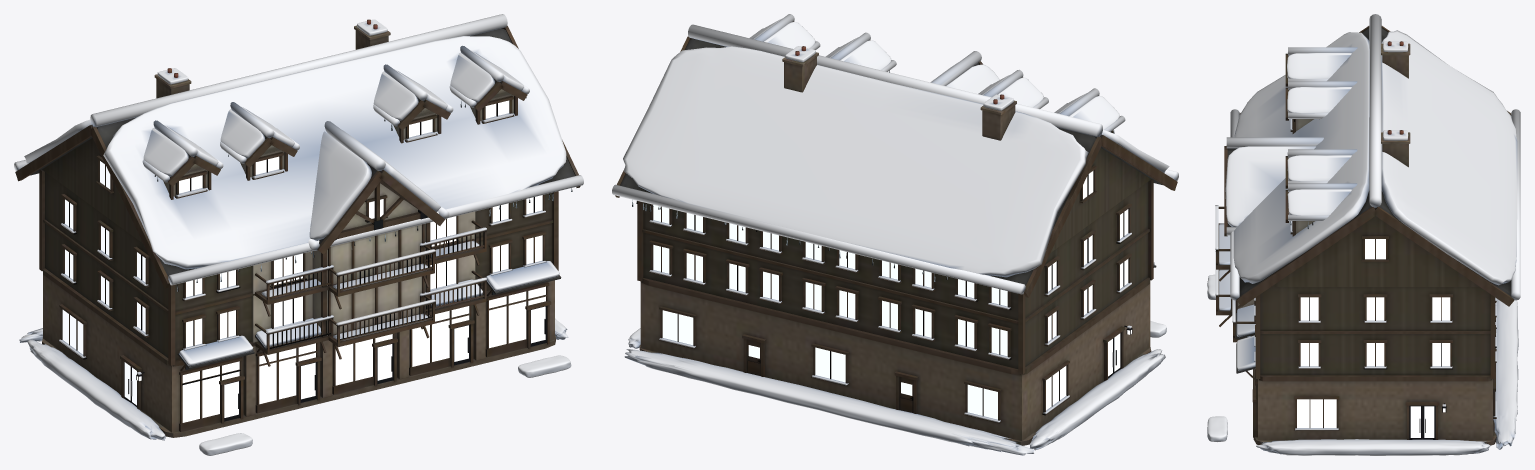
File: village_block_c.glb
3 renders of one model, left to right at view 1: azimuth 30°, elevation 25°; view 2: azimuth 150°, elevation 25°; view 3: azimuth 270°, elevation 25°, orthographic. The views are drawn at different scales.
Parts seen in each view (by area): view 1: village_block_c_snow, village_block_c, village_block_c_lit; view 2: village_block_c_snow, village_block_c, village_block_c_lit; view 3: village_block_c_snow, village_block_c, village_block_c_lit.
Boxes of the visible parts, <box> form: village_block_c_snow: <box>14,14,583,455</box>; village_block_c: <box>15,19,580,437</box>; village_block_c_lit: <box>62,100,545,422</box>; village_block_c_snow: <box>612,14,1178,455</box>; village_block_c: <box>615,21,1177,445</box>; village_block_c_lit: <box>653,171,1128,419</box>; village_block_c_snow: <box>1207,14,1520,455</box>; village_block_c: <box>1216,26,1514,445</box>; village_block_c_lit: <box>1297,239,1450,437</box>.
Bounding box in the file's own units: 26.86 × 17.81 × 18.65.
5 materials, 1 textured.
